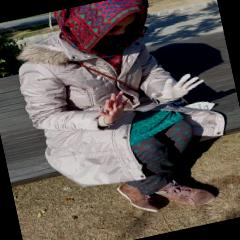gloved: (148, 70, 208, 106)
not-gloved: (97, 89, 136, 124)
